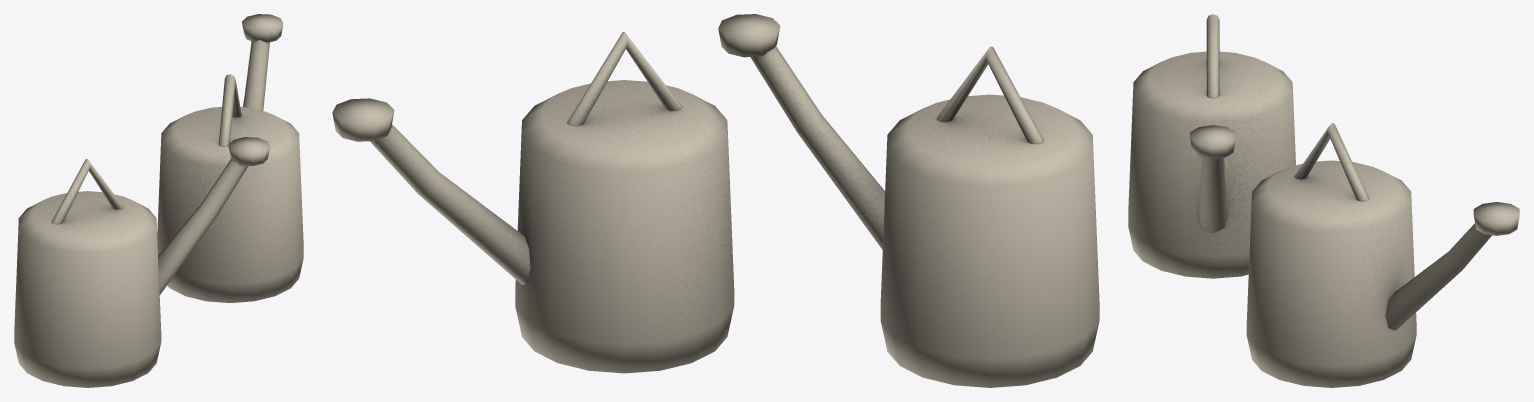
File: cenario_regadores.glb
3 renders of one model, left to right at view 1: azimuth 30°, elevation 25°; view 2: azimuth 150°, elevation 25°; view 3: azimuth 270°, elevation 25°, orthographic. The views are drawn at different scales.
Parts seen in each view (by area): view 1: cenario_regadores_tronco; view 2: cenario_regadores_tronco; view 3: cenario_regadores_tronco.
Boxes of the visible parts, box(x1,y1,x2,y2) form: cenario_regadores_tronco: box(14, 14, 303, 387); cenario_regadores_tronco: box(332, 14, 1099, 387); cenario_regadores_tronco: box(1128, 14, 1519, 387).
Size of the model in its own units: 0.9421 by 0.472 by 0.7268.
1 material, 1 textured.
